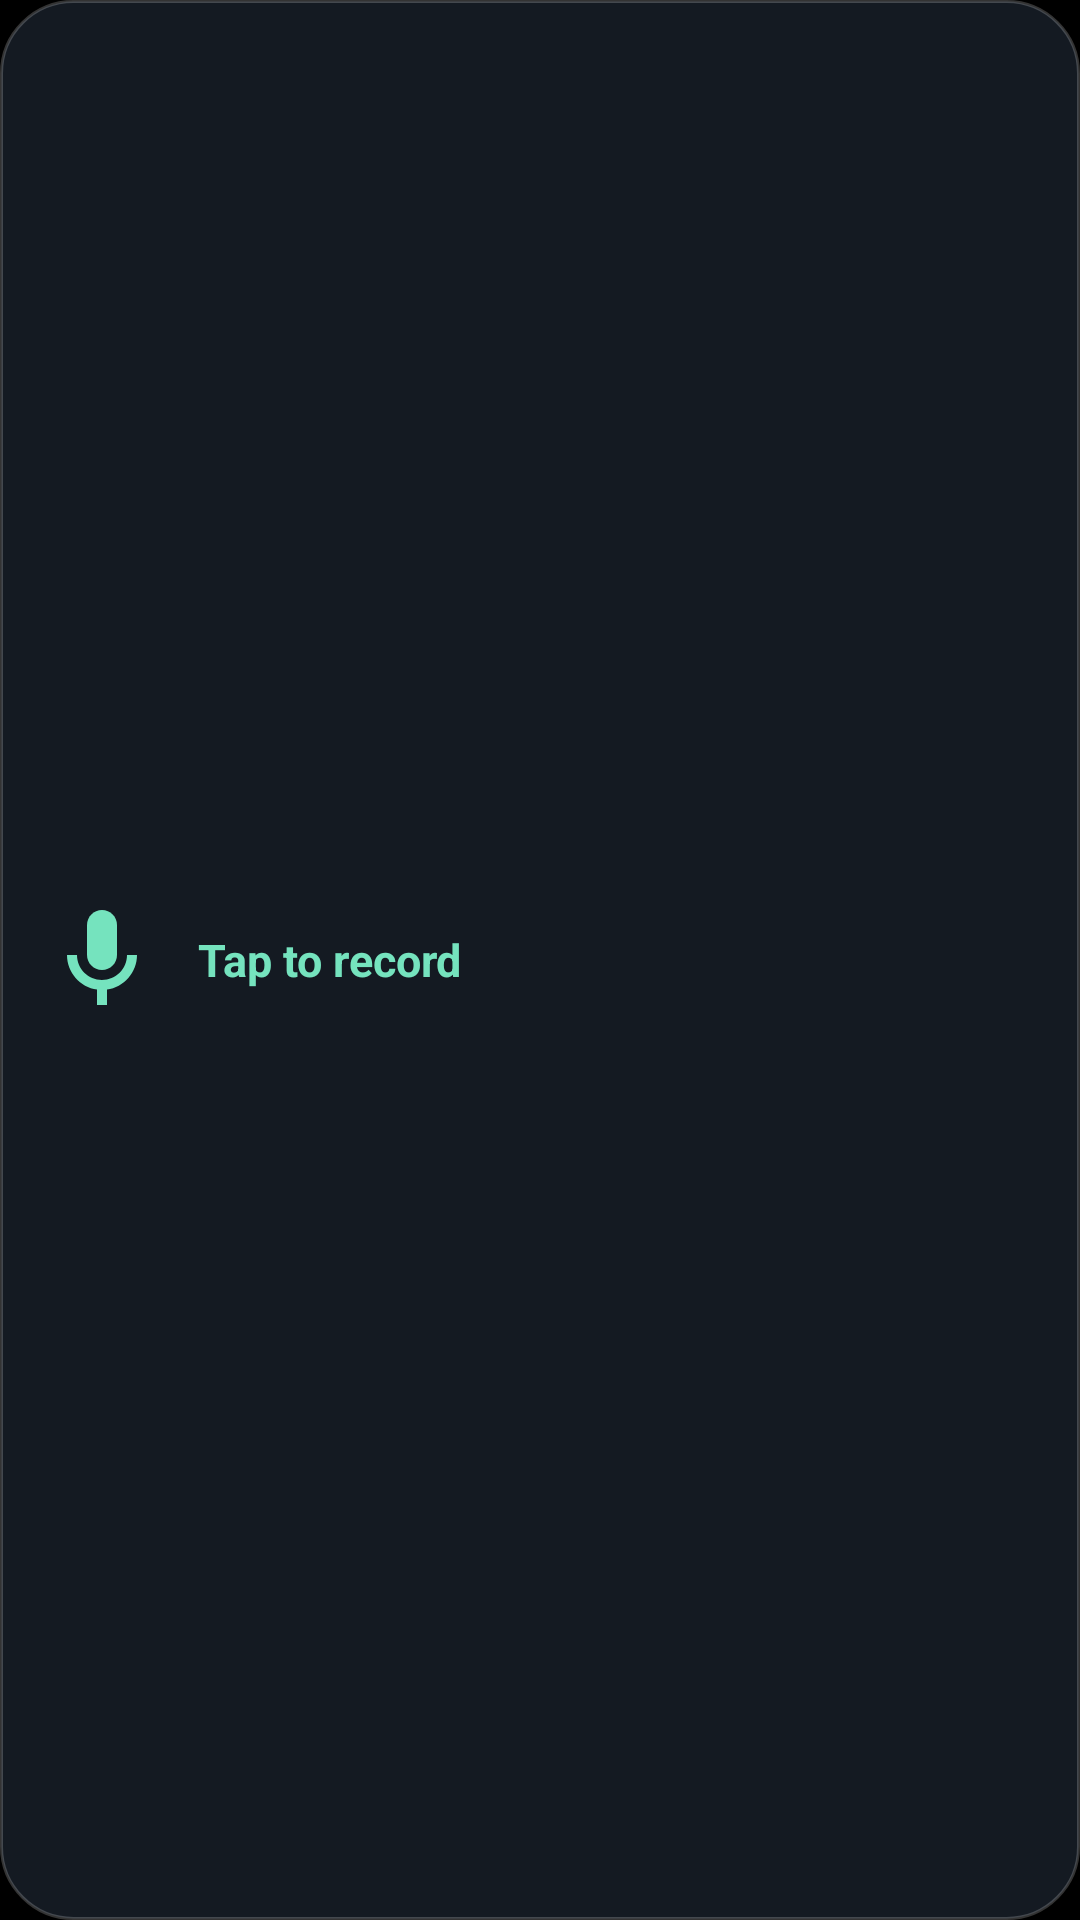

Screen size 1080 x 1920. Icon name, then its box in pixels as {"left": x1, "top": y1, "right": x2, "bottom": y2}:
New recording: {"left": 67, "top": 910, "right": 137, "bottom": 1005}
